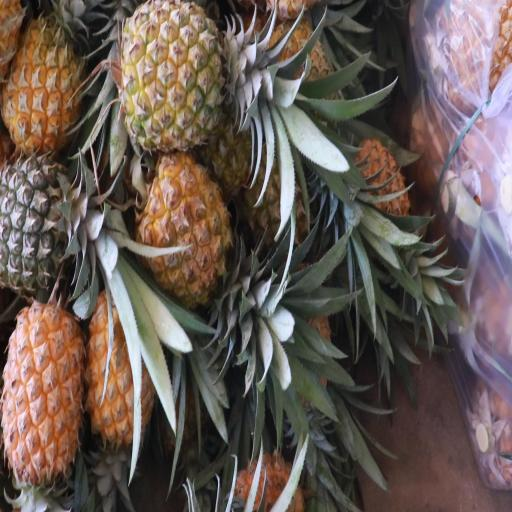Pineapple - v8 v1: (121, 0, 305, 146), (6, 278, 90, 509), (142, 152, 247, 335), (0, 4, 96, 147), (90, 272, 161, 435)
